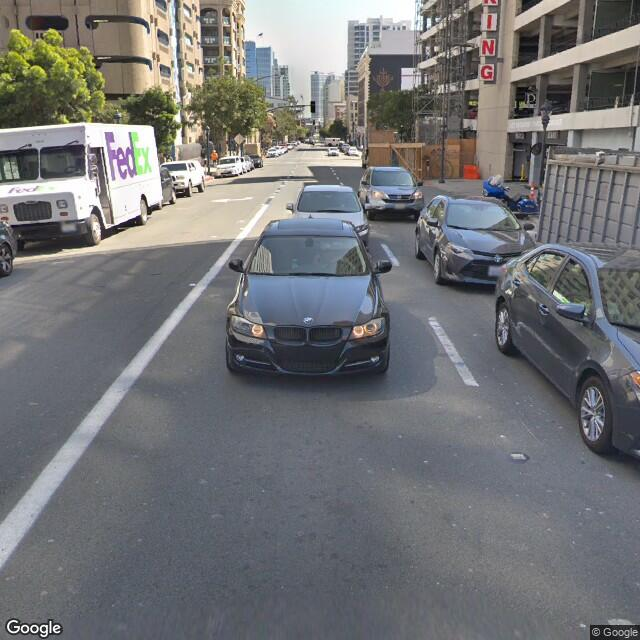road line: (22, 302, 193, 502), (419, 305, 489, 391)
